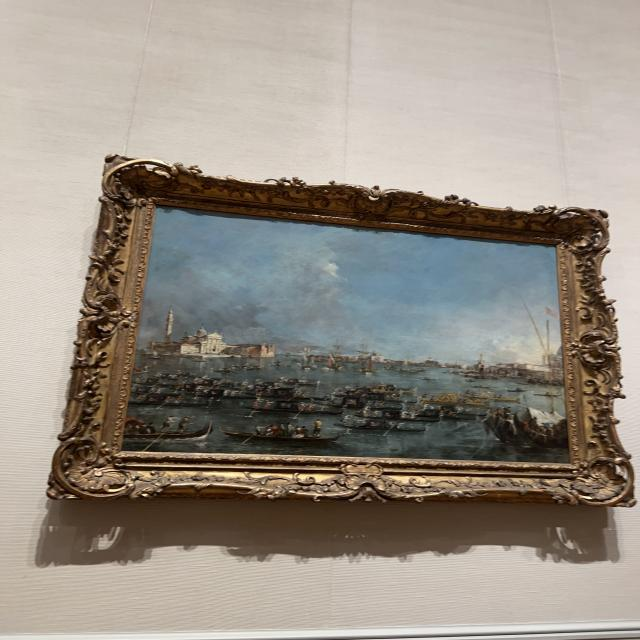ships: (121, 204, 570, 462)
